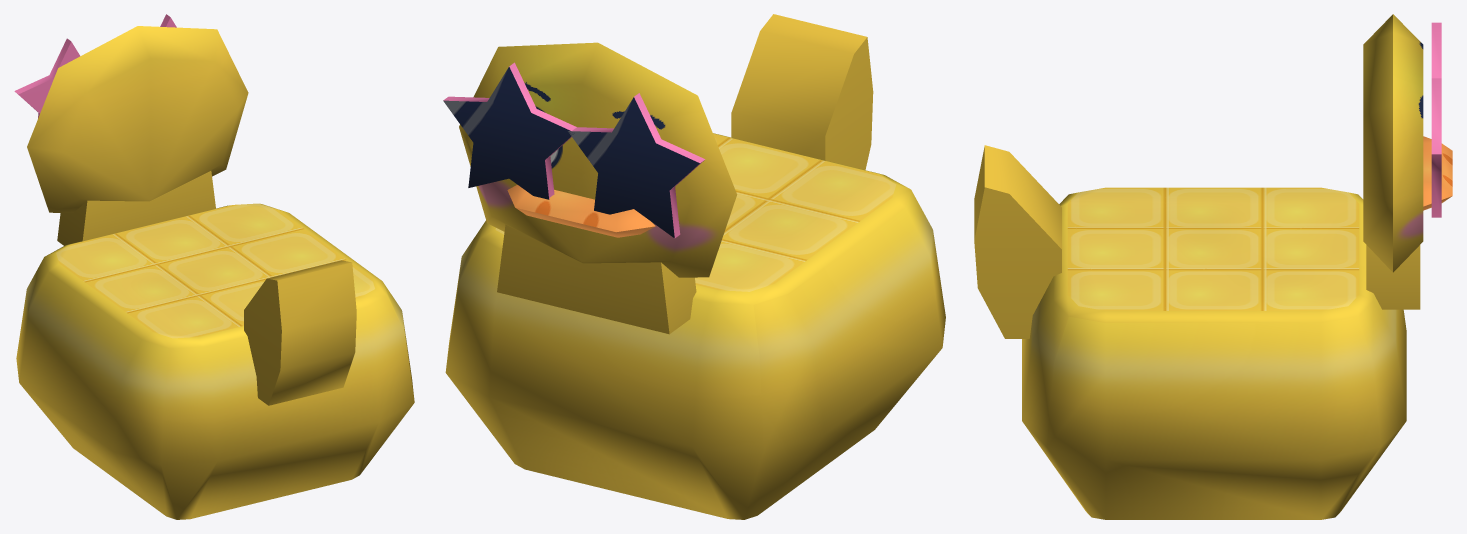
The model's file is pool_duck_mini_sunglasses_lod1.glb.
The picture shows the model from 3 angles, left to right: view 1: azimuth 30°, elevation 25°; view 2: azimuth 150°, elevation 25°; view 3: azimuth 270°, elevation 25°; orthographic projection. The views are drawn at different scales.
Parts seen in each view (by area): view 1: pool_duck_mini_sunglasses_LOD1; view 2: pool_duck_mini_sunglasses_LOD1; view 3: pool_duck_mini_sunglasses_LOD1.
Part boxes in pixels (x1,y1,x2,y2): pool_duck_mini_sunglasses_LOD1: (14, 14, 414, 519); pool_duck_mini_sunglasses_LOD1: (443, 14, 945, 519); pool_duck_mini_sunglasses_LOD1: (974, 14, 1452, 519).
Bounding box in the file's own units: 5 × 6 × 6.
Materials: 1 (1 with a texture image).
